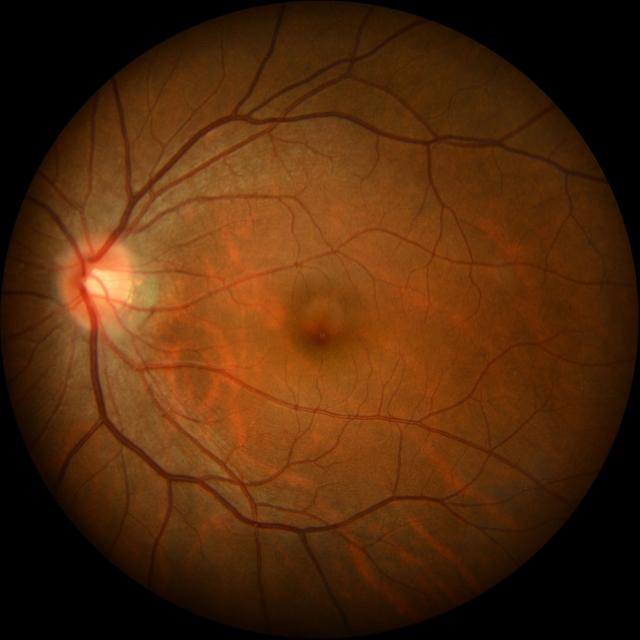OC: (85, 266, 115, 298)
OD: (64, 240, 129, 326)
